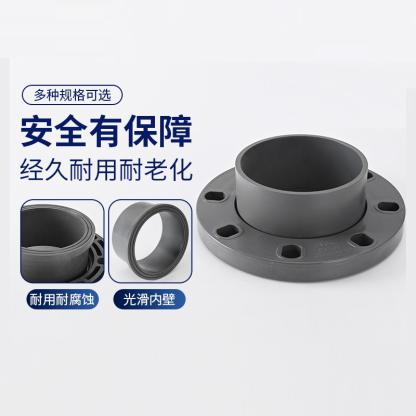FOD: (196, 130, 409, 286)
